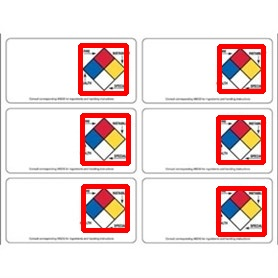nfpa: (80, 45, 126, 93), (82, 115, 128, 163), (218, 188, 264, 234), (218, 117, 263, 162), (219, 46, 263, 91), (83, 186, 127, 230)
